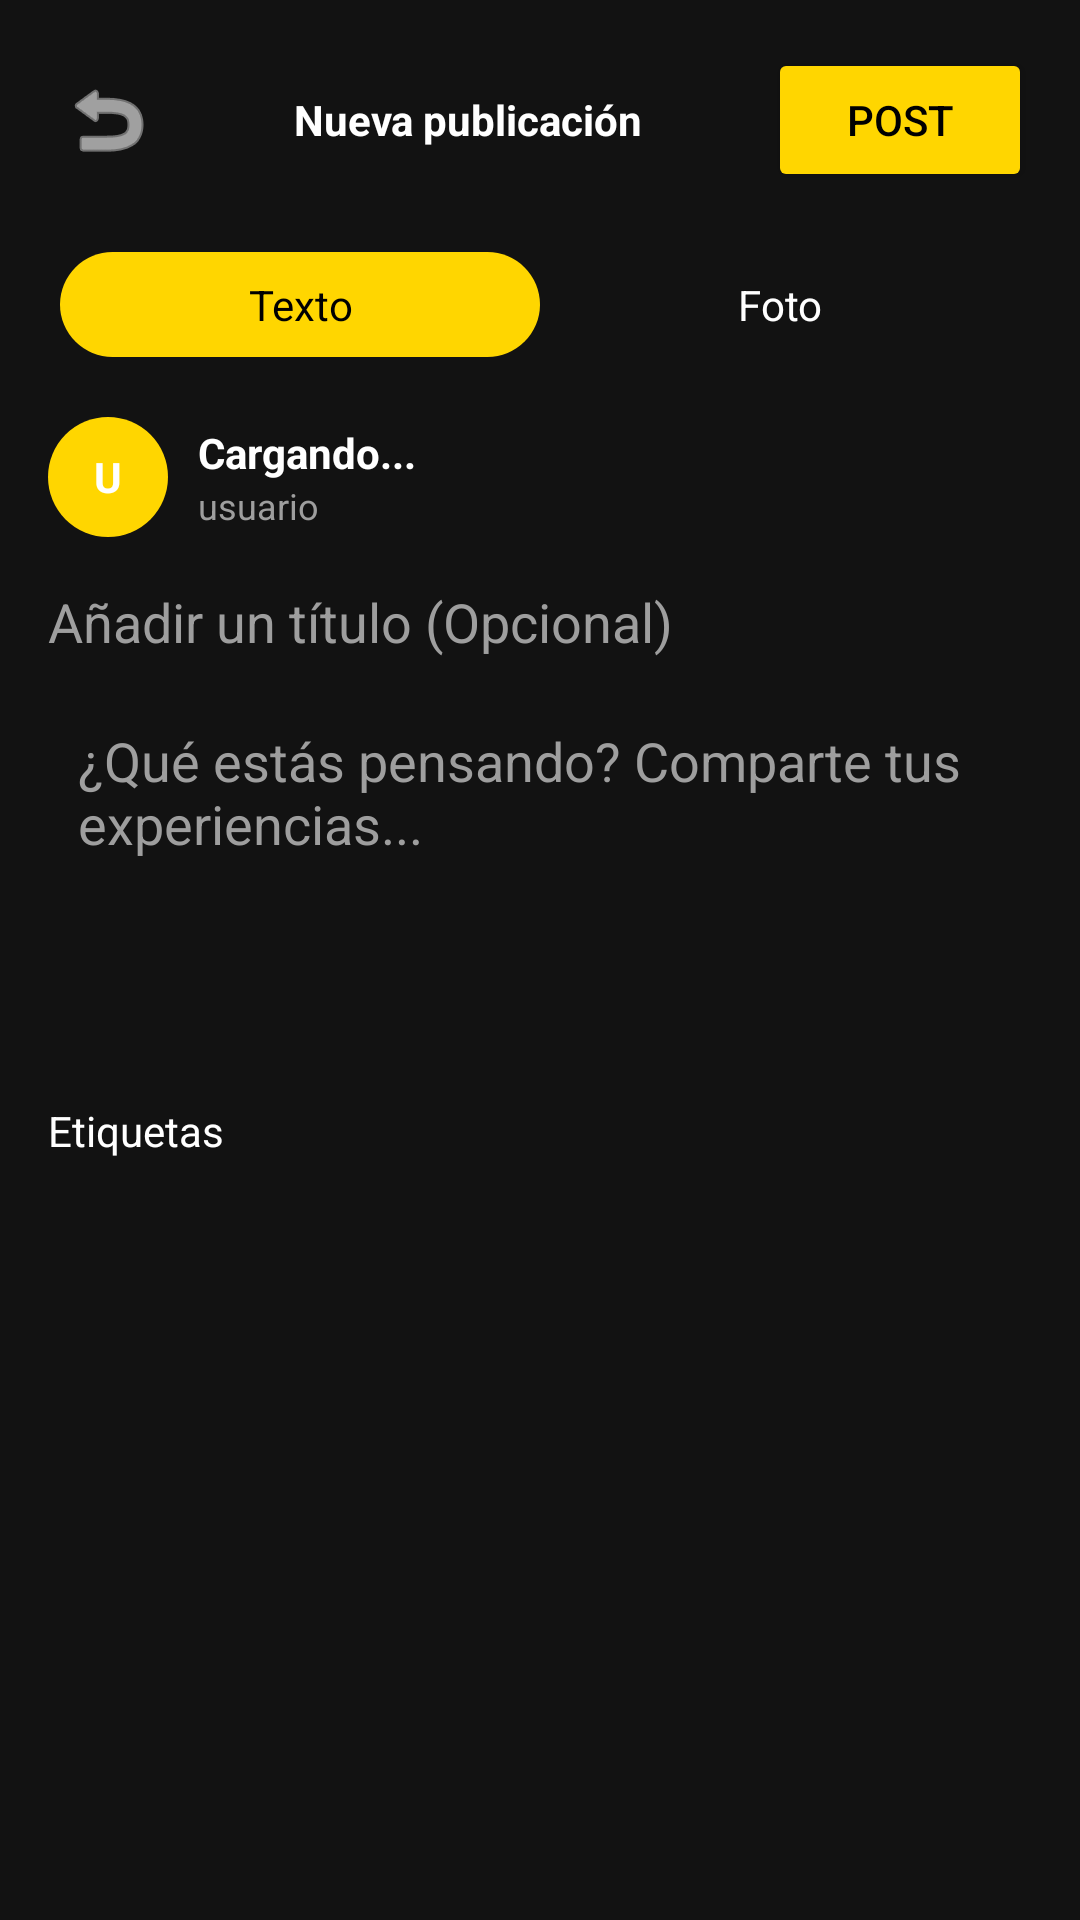

Icon click points for this 1080 × 1920 phone screenshot, format (x,y):
revert: (109,120)
